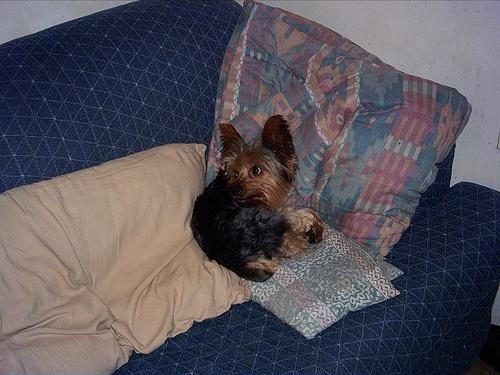dog: (187, 116, 325, 286)
sofa: (5, 3, 499, 375)
